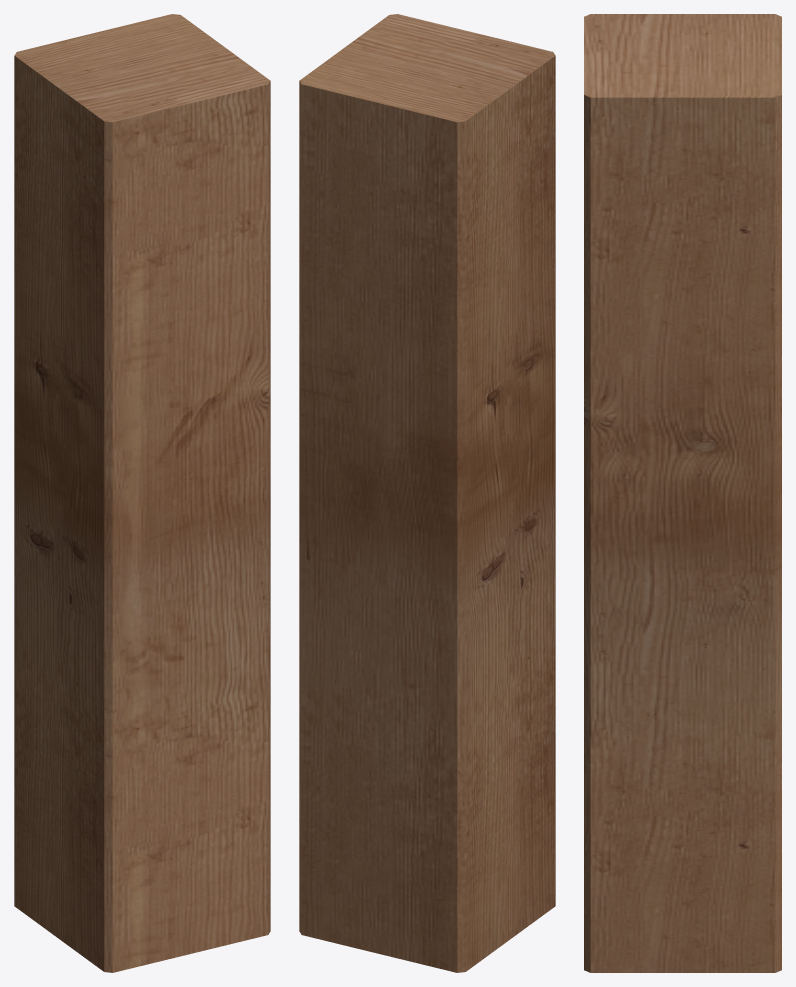
File: SM_JSH_PillarE.fbx
3 views of the same model, side by side, from view 1: azimuth 30°, elevation 25°; view 2: azimuth 150°, elevation 25°; view 3: azimuth 270°, elevation 25° (orthographic). The views are drawn at different scales.
Parts seen in each view (by area): view 1: SM_JSH_PillarE; view 2: SM_JSH_PillarE; view 3: SM_JSH_PillarE.
Boxes of the visible parts, x1,y1,x2,y2 form: SM_JSH_PillarE: (14, 14, 270, 972); SM_JSH_PillarE: (299, 14, 555, 972); SM_JSH_PillarE: (584, 14, 781, 972).
Bounding box in the file's own units: 21.09 × 21.09 × 103.
1 material, 1 textured.
